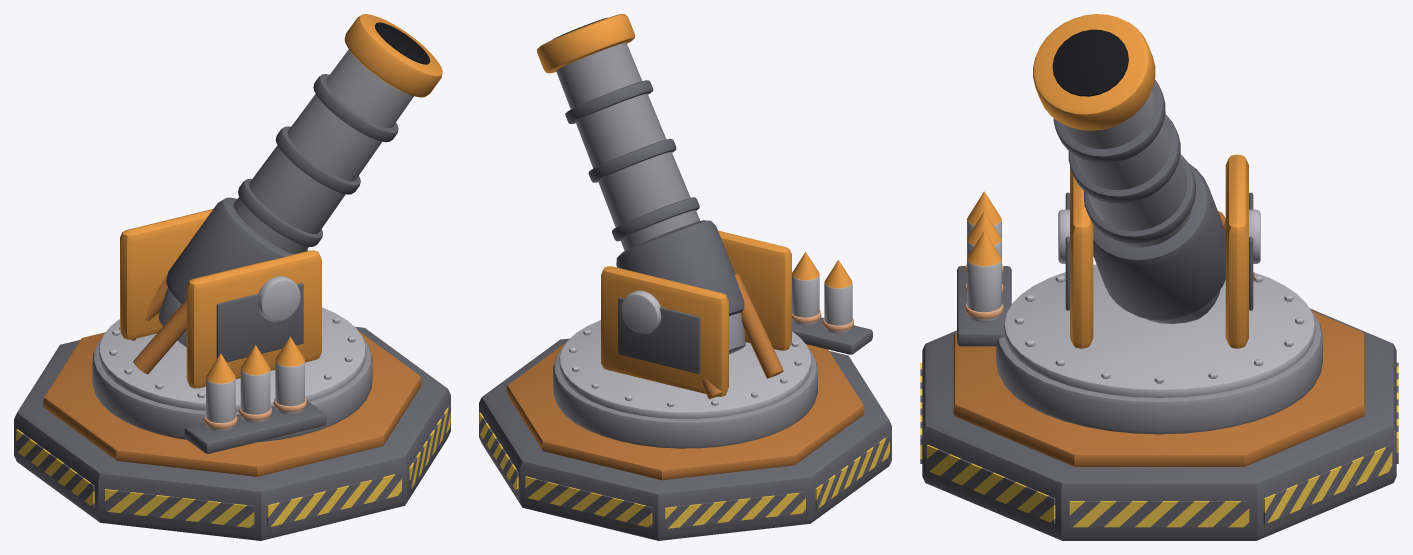
The model's file is Mortar.glb.
3 renders of one model, left to right at view 1: azimuth 30°, elevation 25°; view 2: azimuth 150°, elevation 25°; view 3: azimuth 270°, elevation 25°, orthographic. The views are drawn at different scales.
Visible parts, largest first — view 1: Mortar; view 2: Mortar; view 3: Mortar.
Part boxes in pixels (box(x1,y1,x2,y2)): Mortar: box(14, 14, 450, 540); Mortar: box(479, 14, 891, 540); Mortar: box(920, 14, 1398, 540).
Size of the model in its own units: 1.23 by 1.39 by 1.23.
